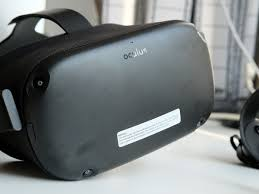oculus: (9, 20, 217, 179)
